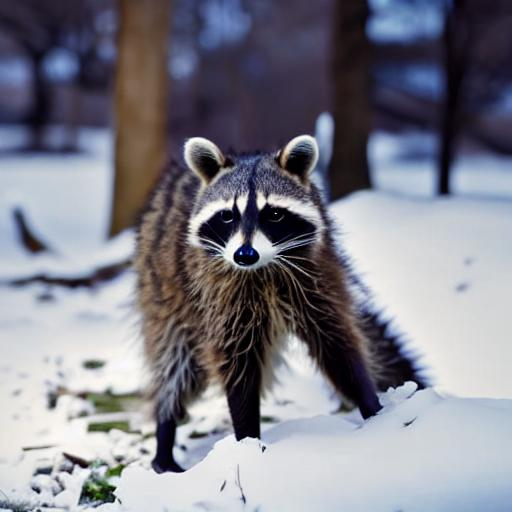raccoon: (118, 123, 434, 392)
